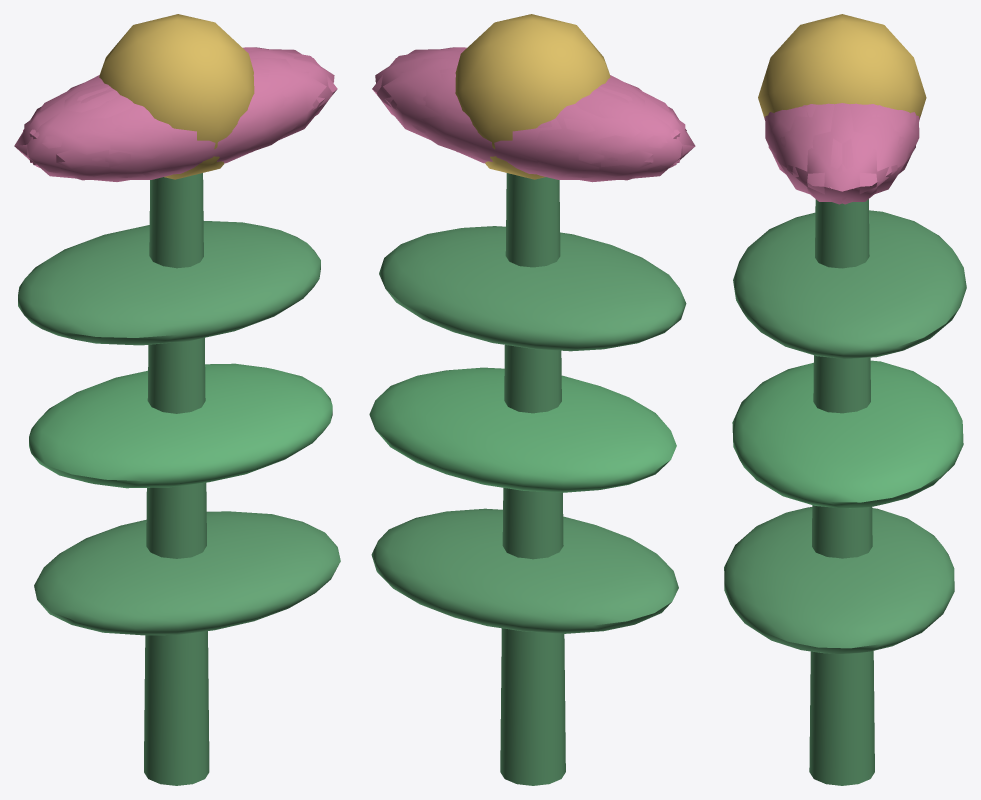
File: ricinus-communis.glb
3 views of the same model, side by side, from view 1: azimuth 30°, elevation 25°; view 2: azimuth 150°, elevation 25°; view 3: azimuth 270°, elevation 25° (orthographic).
Visible parts, largest first — view 1: leaf2, leaf0, leaf1, stem, center, petal6, petal2, petal1, petal5, petal7, petal0; view 2: leaf2, leaf1, leaf0, stem, center, petal3, petal7, petal8, petal4, petal2, petal0; view 3: leaf1, leaf2, leaf0, stem, center, petal0, petal5, petal4, petal1, petal8.
Part boxes in pixels (box(x1,y1,x2,y2)): leaf2: box(18, 221, 320, 345); leaf0: box(34, 511, 340, 635); leaf1: box(29, 363, 332, 488); stem: box(144, 173, 209, 785); center: box(99, 14, 254, 179); petal6: box(32, 89, 239, 180); petal2: box(24, 83, 183, 181); petal1: box(105, 67, 319, 178); petal5: box(172, 56, 337, 169); petal7: box(14, 77, 119, 172); petal0: box(247, 49, 334, 152); leaf2: box(379, 226, 686, 351); leaf1: box(369, 367, 676, 492); leaf0: box(371, 508, 678, 633); stem: box(500, 173, 565, 785); center: box(455, 14, 610, 179); petal3: box(469, 89, 676, 180); petal7: box(525, 83, 685, 182); petal8: box(390, 67, 604, 178); petal4: box(372, 56, 537, 169); petal2: box(590, 77, 695, 172); petal0: box(375, 49, 462, 152); leaf1: box(732, 360, 963, 508); leaf2: box(733, 210, 966, 358); leaf0: box(724, 507, 954, 653); stem: box(809, 199, 874, 785); center: box(758, 14, 926, 117); petal0: box(780, 103, 904, 201); petal5: box(768, 103, 854, 204); petal4: box(829, 103, 915, 204); petal1: box(765, 104, 817, 174); petal8: box(866, 104, 919, 174).
Bounding box in the file's own units: 0.1541 × 0.3537 × 0.1036.
